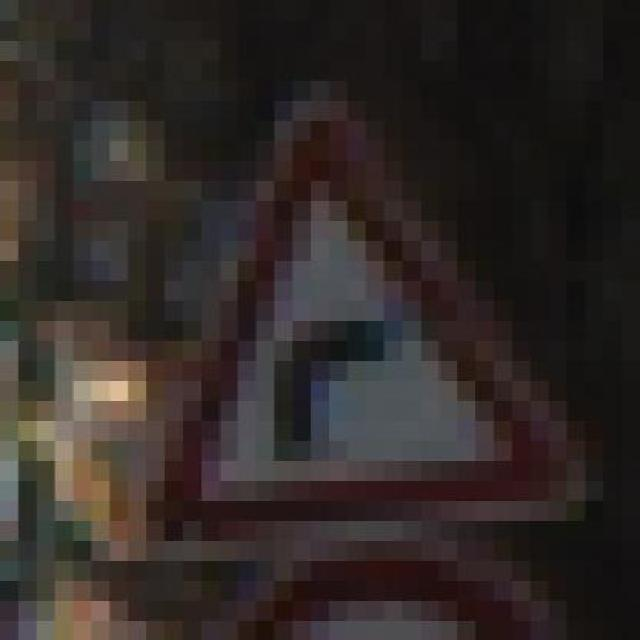Dangerous Rright Curve Ahead: (76, 79, 570, 519)
